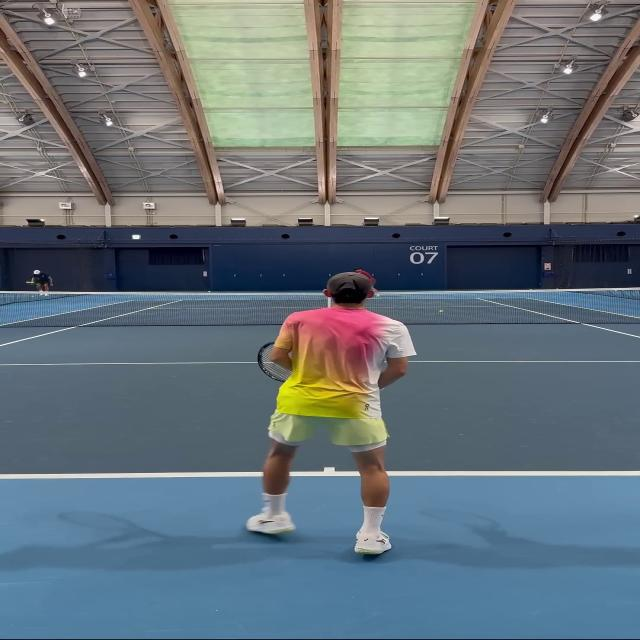tennis_ball: (440, 310, 443, 312)
